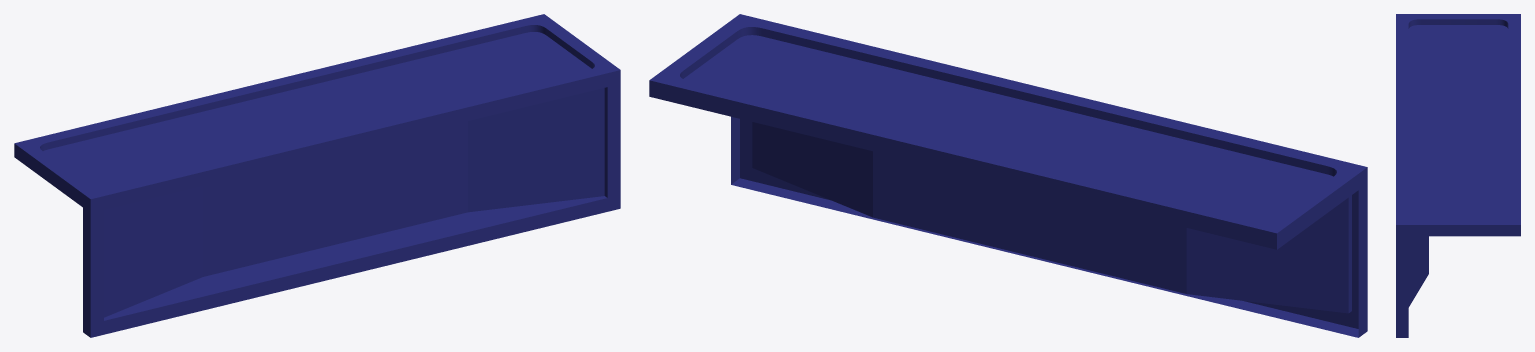
File: Wall_4x1m_B_Ex.FBX
3 views of the same model, side by side, from view 1: azimuth 30°, elevation 25°; view 2: azimuth 150°, elevation 25°; view 3: azimuth 270°, elevation 25° (orthographic). The views are drawn at different scales.
Visible parts, largest first — view 1: Wall_4x1m_B_Ex; view 2: Wall_4x1m_B_Ex; view 3: Wall_4x1m_B_Ex.
Boxes of the visible parts, bbox=[...] form: Wall_4x1m_B_Ex: bbox=[14, 14, 620, 337]; Wall_4x1m_B_Ex: bbox=[649, 14, 1367, 337]; Wall_4x1m_B_Ex: bbox=[1396, 14, 1520, 337].
Bounding box in the file's own units: 400 × 100 × 100.
